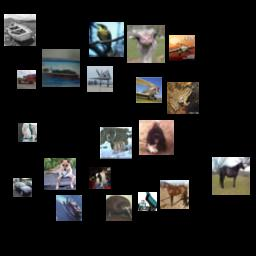airplane: (169, 35, 195, 61), (136, 77, 162, 103), (87, 66, 113, 92)
automobile: (13, 178, 32, 197)
bird: (127, 25, 165, 63), (89, 22, 124, 57), (106, 195, 132, 221)
deer: (100, 127, 132, 159)
dog: (139, 120, 174, 155), (44, 158, 76, 190), (89, 167, 111, 189), (18, 123, 37, 142)
frog: (167, 82, 199, 114)
ship: (42, 49, 80, 87), (4, 14, 36, 46), (56, 195, 82, 221)
truck: (17, 70, 36, 89), (138, 192, 157, 211)
